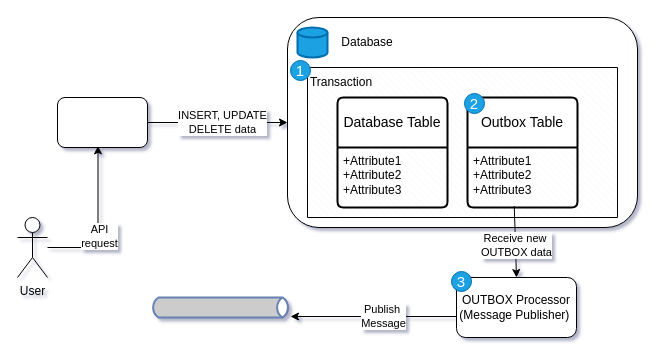
The diagram is 661 pixels wide and 361 high, and some of its shapes have lost their labels. The centre of each missing label's shape, as x and y in pixels:
"API" goes at pixel 102 122.
"Message Brocker" goes at pixel 220 307.
